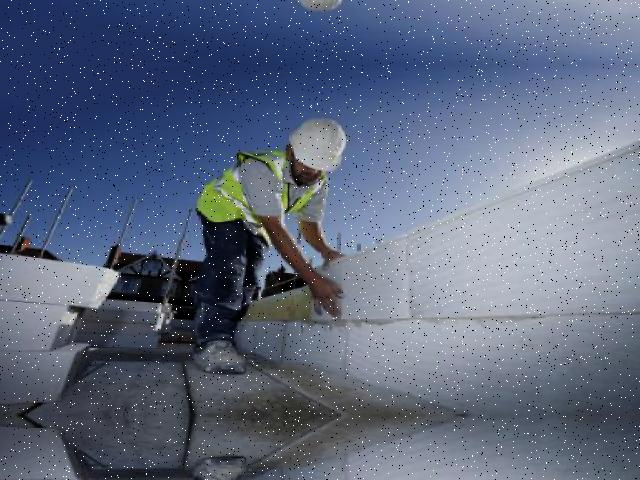Helmet: (283, 112, 351, 179)
